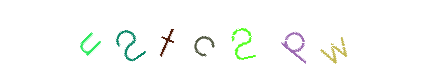2: (142, 0, 222, 80), (177, 0, 257, 80)
C: (171, 0, 251, 80)
P: (223, 0, 303, 80)
T: (143, 0, 223, 80)
U: (89, 0, 169, 80)
W: (286, 0, 366, 80)
